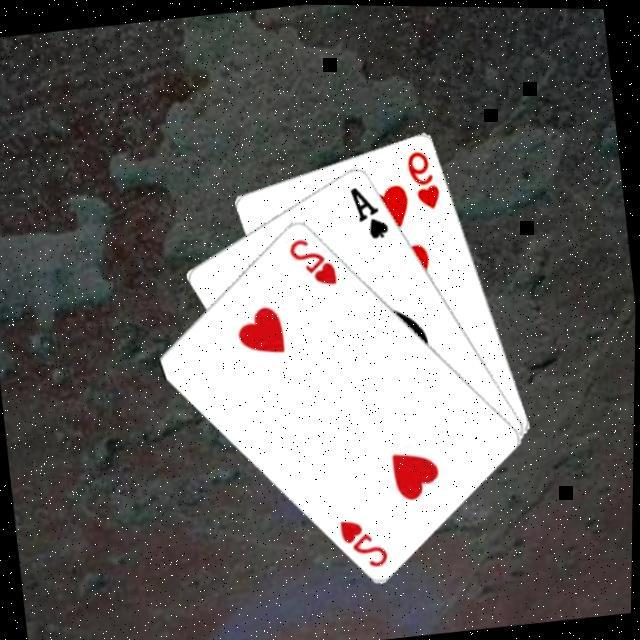2H: (283, 230, 342, 293), (336, 512, 393, 575)
9H: (401, 145, 445, 215)
AS: (345, 181, 393, 244)
